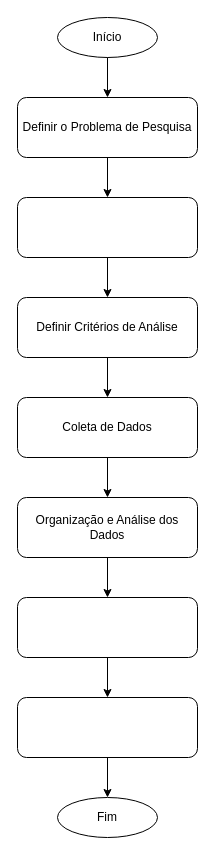
Image size: 215x855. Some labels were removed from this diagram. The shapes that lost their labels are listed below. From the top down, each one's box as (x1, y1, x2, y2) in pixels, then its label:
(16, 196, 198, 258): Revisão da Literatura
(16, 596, 198, 658): Discussão e Interpretação
(16, 696, 198, 758): Comunicação dos Resultados
